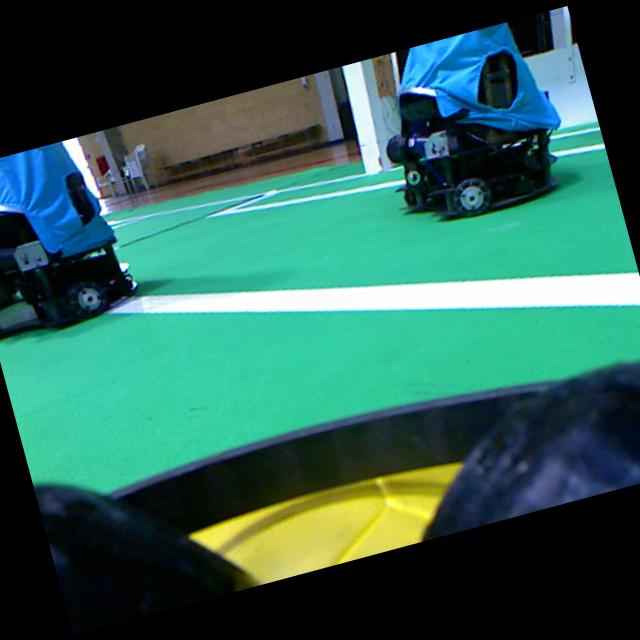ball: (189, 463, 459, 583)
goal: (341, 61, 381, 173)
